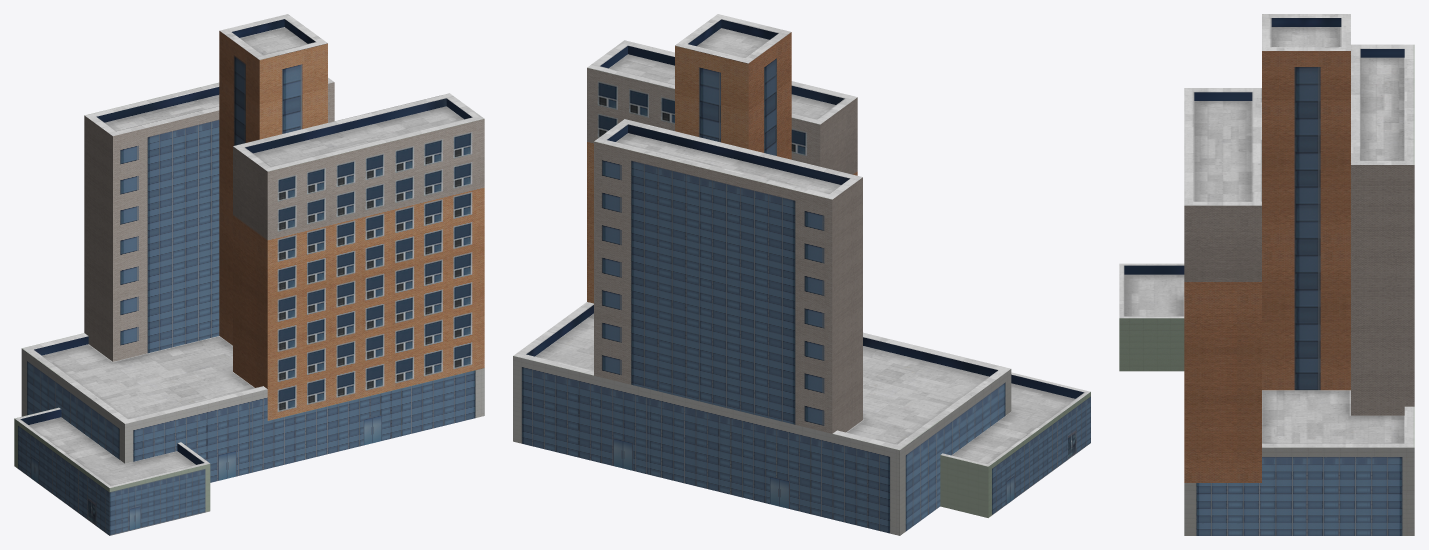
3 views of the same model, side by side, from view 1: azimuth 30°, elevation 25°; view 2: azimuth 150°, elevation 25°; view 3: azimuth 270°, elevation 25° (orthographic). The views are drawn at different scales.
Parts seen in each view (by area): view 1: MainBuilding; view 2: MainBuilding; view 3: MainBuilding.
Boxes of the visible parts, box(x1,y1,x2,y2) form: MainBuilding: box(14, 14, 484, 535); MainBuilding: box(513, 14, 1090, 535); MainBuilding: box(1119, 14, 1414, 535).
Bounding box in the file's own units: 5.31 × 4.73 × 3.02.
Materials: 1 (1 with a texture image).
